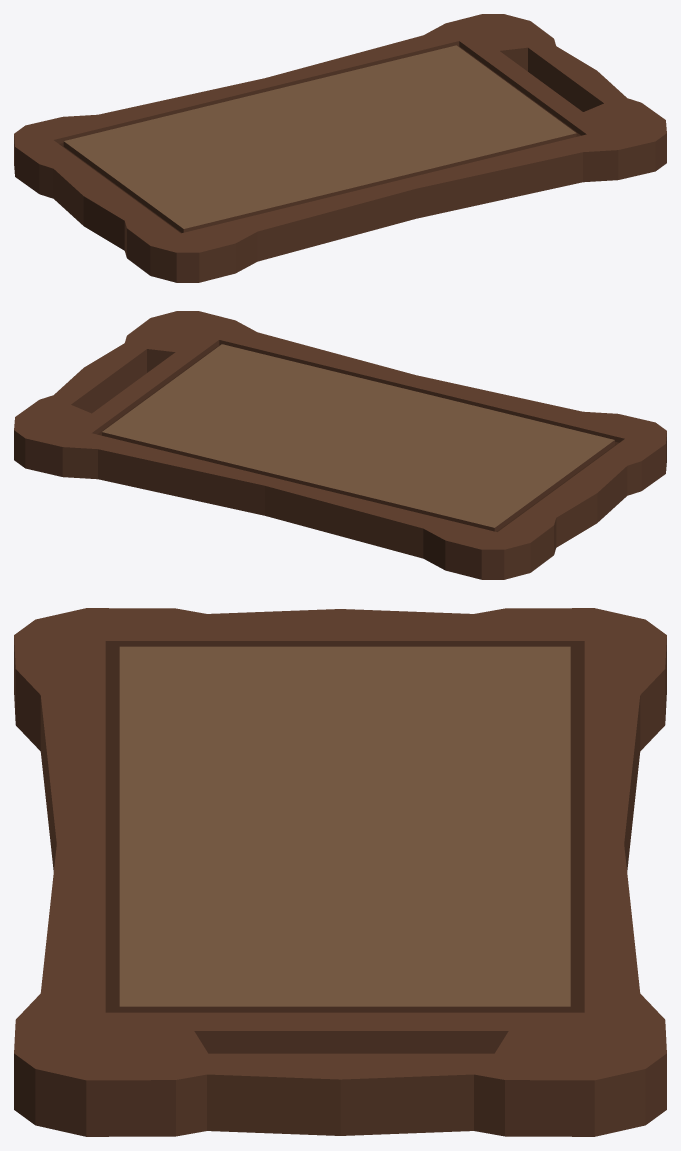
File: cutting_board.glb
3 views of the same model, one above another, from view 1: azimuth 30°, elevation 25°; view 2: azimuth 150°, elevation 25°; view 3: azimuth 270°, elevation 25° (orthographic). The views are drawn at different scales.
Parts seen in each view (by area): view 1: Cutting Board; view 2: Cutting Board; view 3: Cutting Board.
Part boxes in pixels (x1,y1,x2,y2): Cutting Board: (14, 14, 666, 282); Cutting Board: (14, 311, 666, 579); Cutting Board: (14, 608, 666, 1136).
Size of the model in its own units: 0.3146 by 0.0175 by 0.1838.
Materials: 1 (1 with a texture image).
